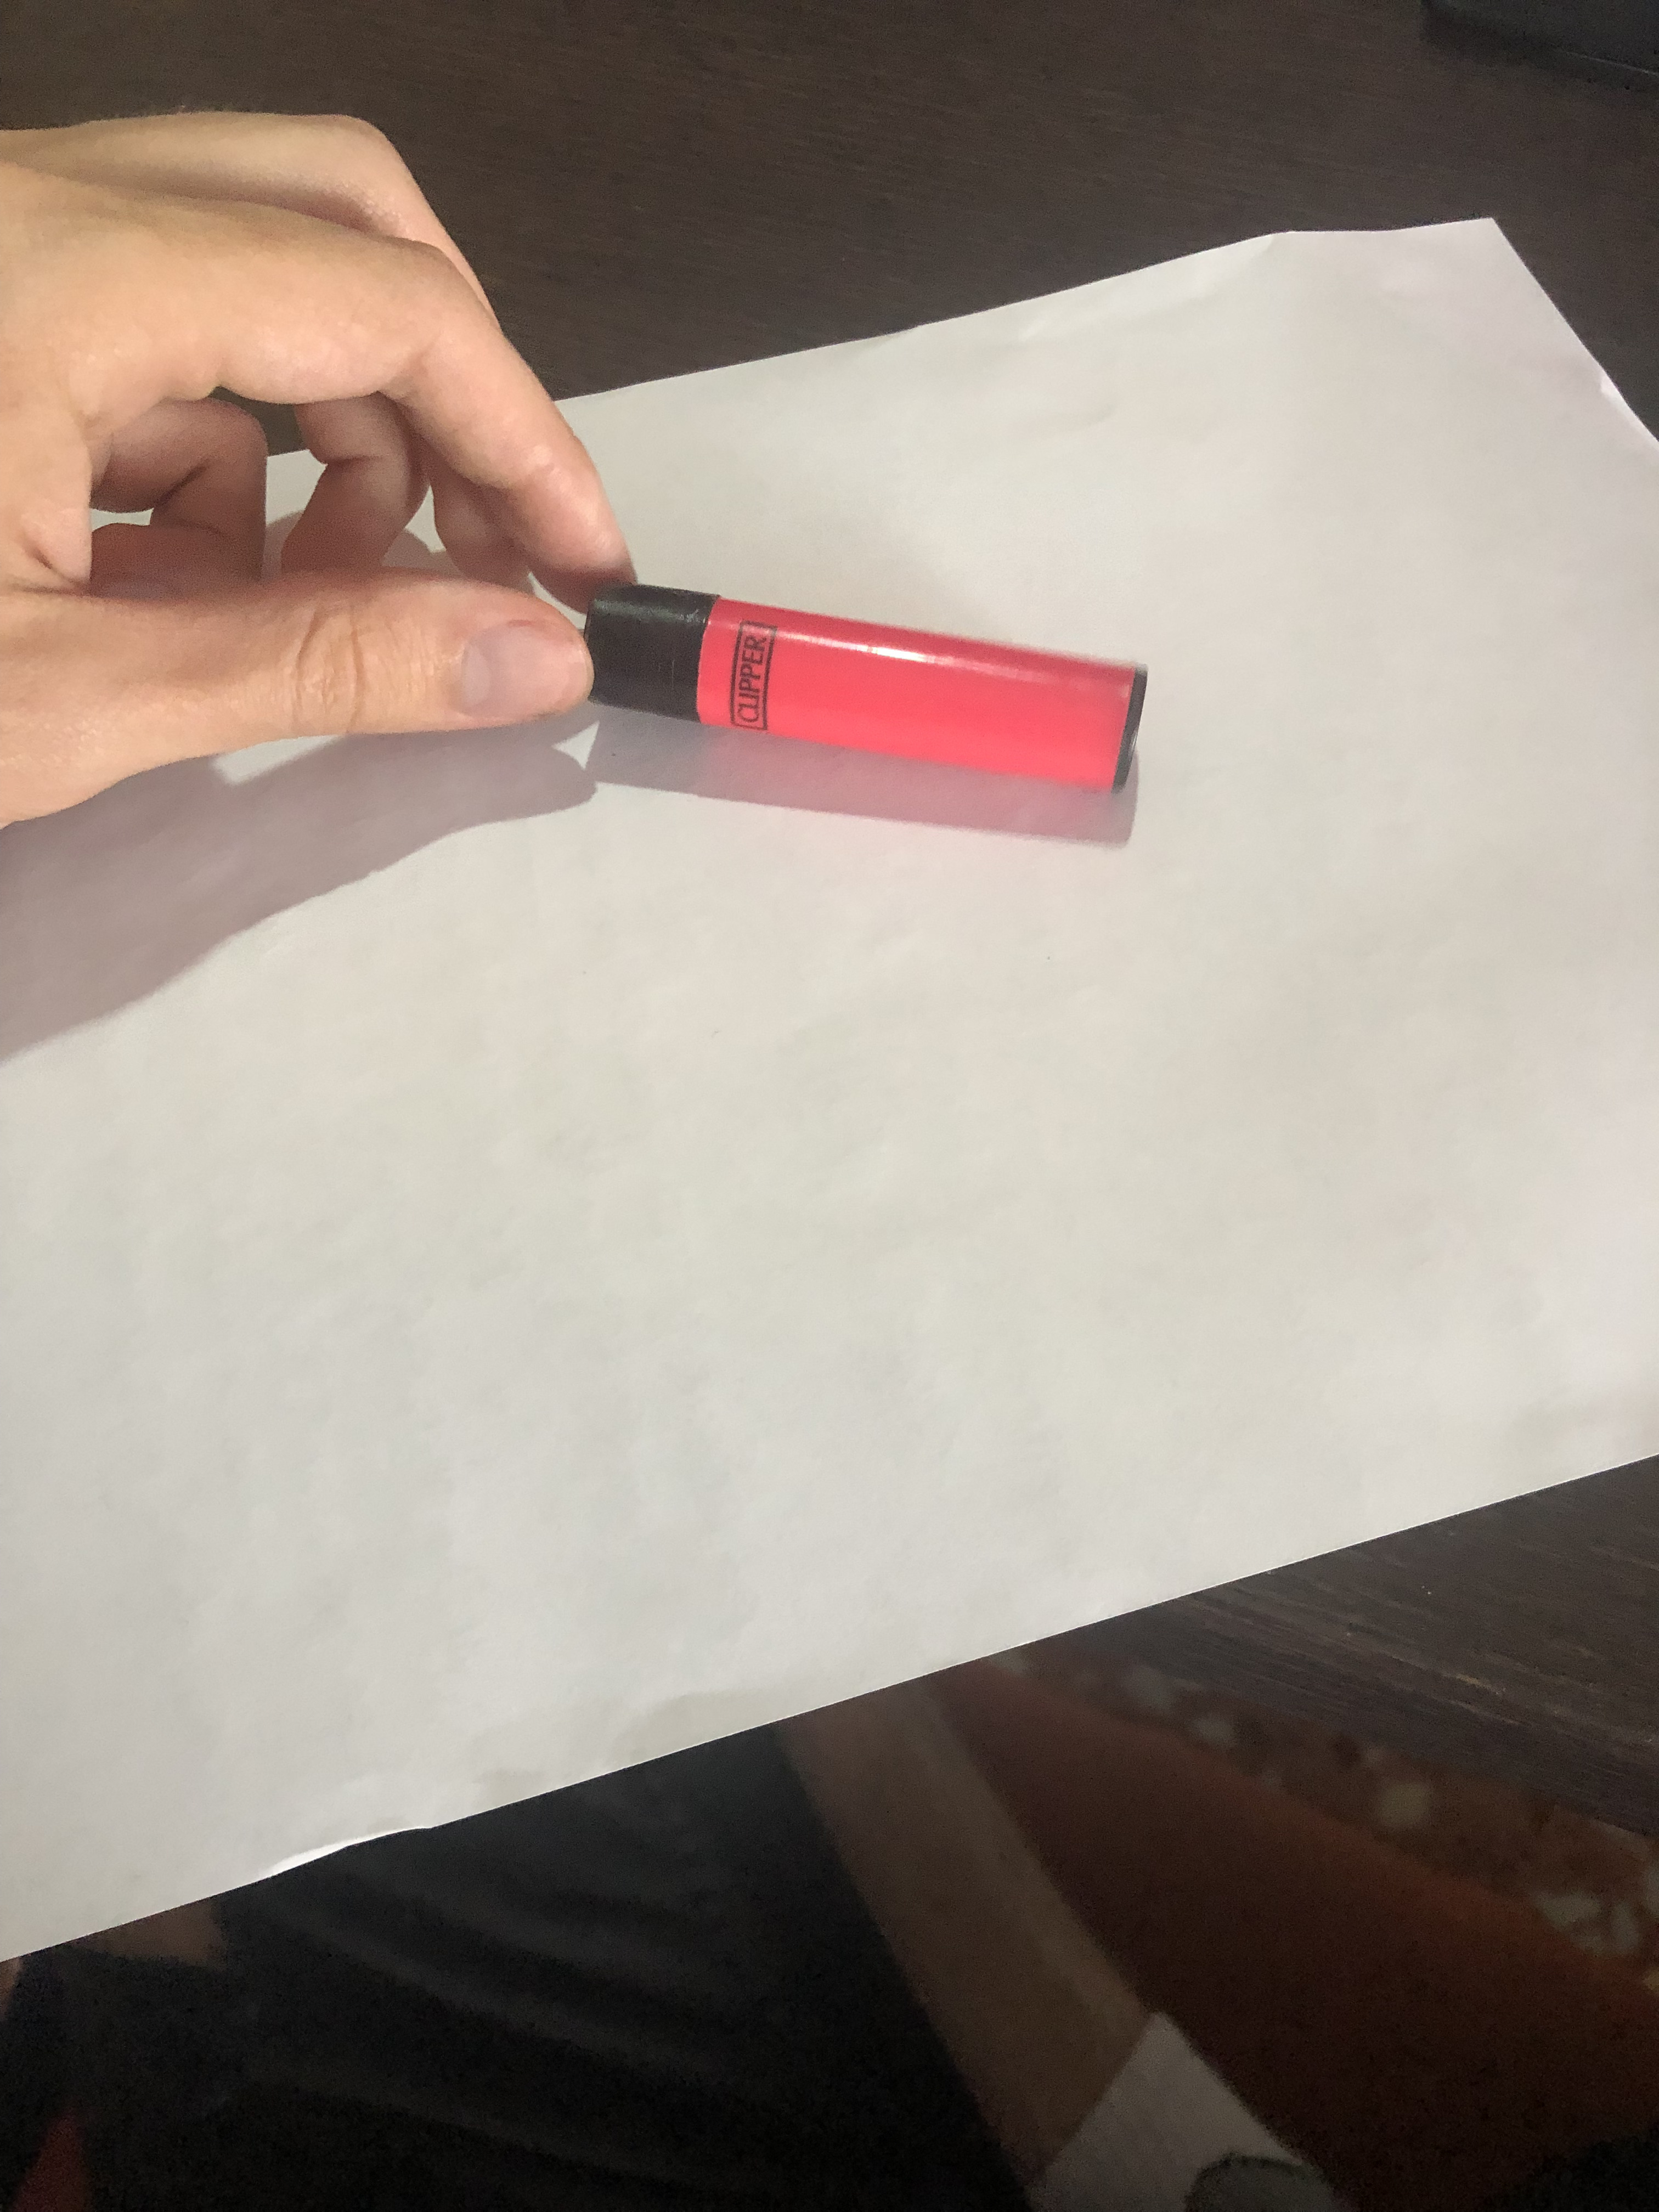Mechero: (556, 557, 1175, 810)
